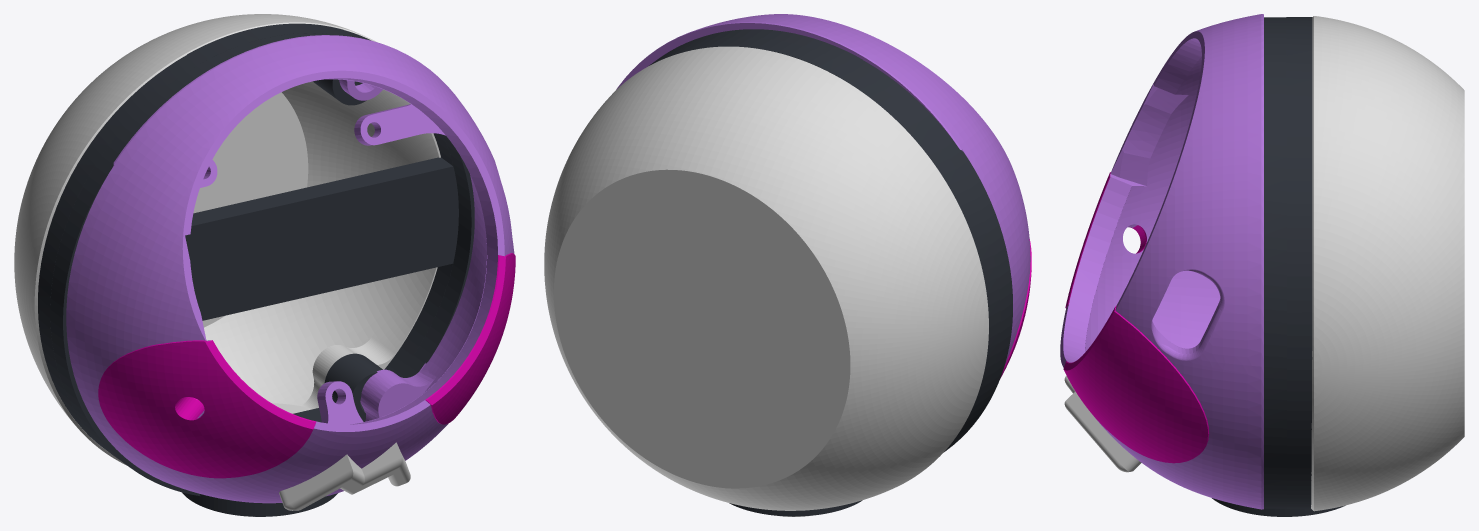
File: poketama-master.glb
3 renders of one model, left to right at view 1: azimuth 30°, elevation 25°; view 2: azimuth 150°, elevation 25°; view 3: azimuth 270°, elevation 25°, orthographic.
Size of the model in its own units: 1.93 by 2 by 1.56.
